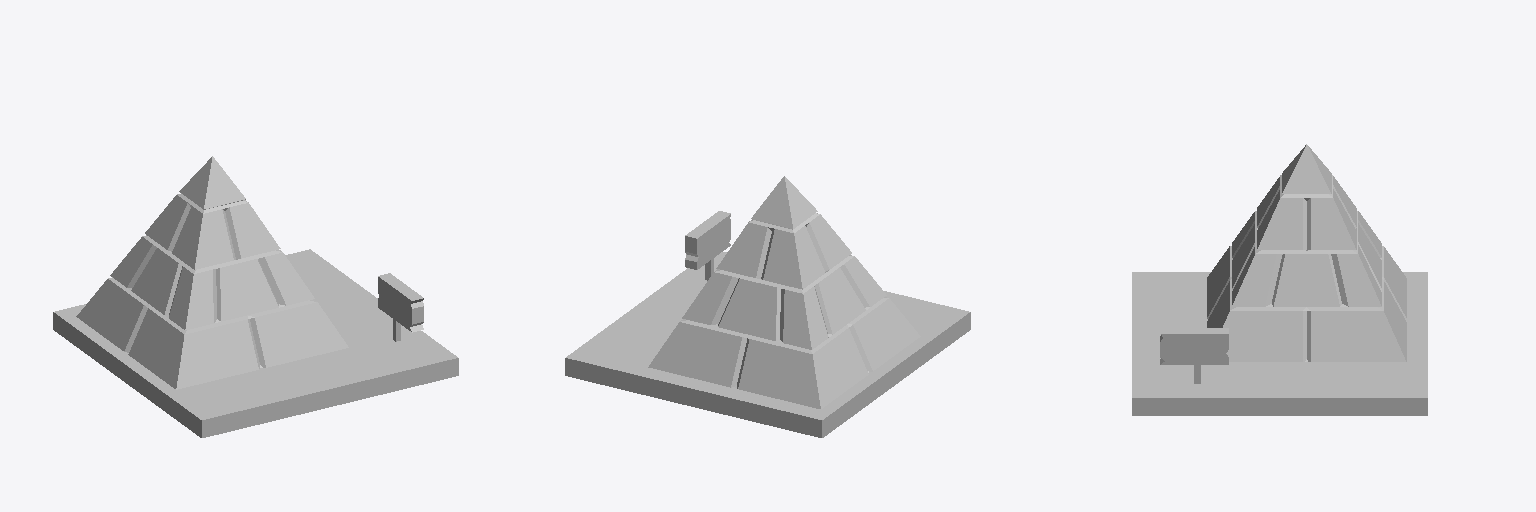
File: entornoArena.obj
3 renders of one model, left to right at view 1: azimuth 30°, elevation 25°; view 2: azimuth 150°, elevation 25°; view 3: azimuth 270°, elevation 25°, orthographic.
Parts seen in each view (by area): view 1: Cube.002, Cube, Cube.001; view 2: Cube.002, Cube, Cube.001; view 3: Cube.002, Cube, Cube.001.
Boxes of the visible parts, <box> form: Cube.002: <box>76,156,348,389</box>; Cube: <box>53,249,458,437</box>; Cube.001: <box>378,273,423,341</box>; Cube.002: <box>648,176,920,408</box>; Cube: <box>565,252,970,437</box>; Cube.001: <box>685,211,730,280</box>; Cube.002: <box>1207,144,1406,361</box>; Cube: <box>1132,272,1427,415</box>; Cube.001: <box>1160,328,1228,383</box>.
Bounding box in the file's own units: 11.41 × 8.23 × 11.41.